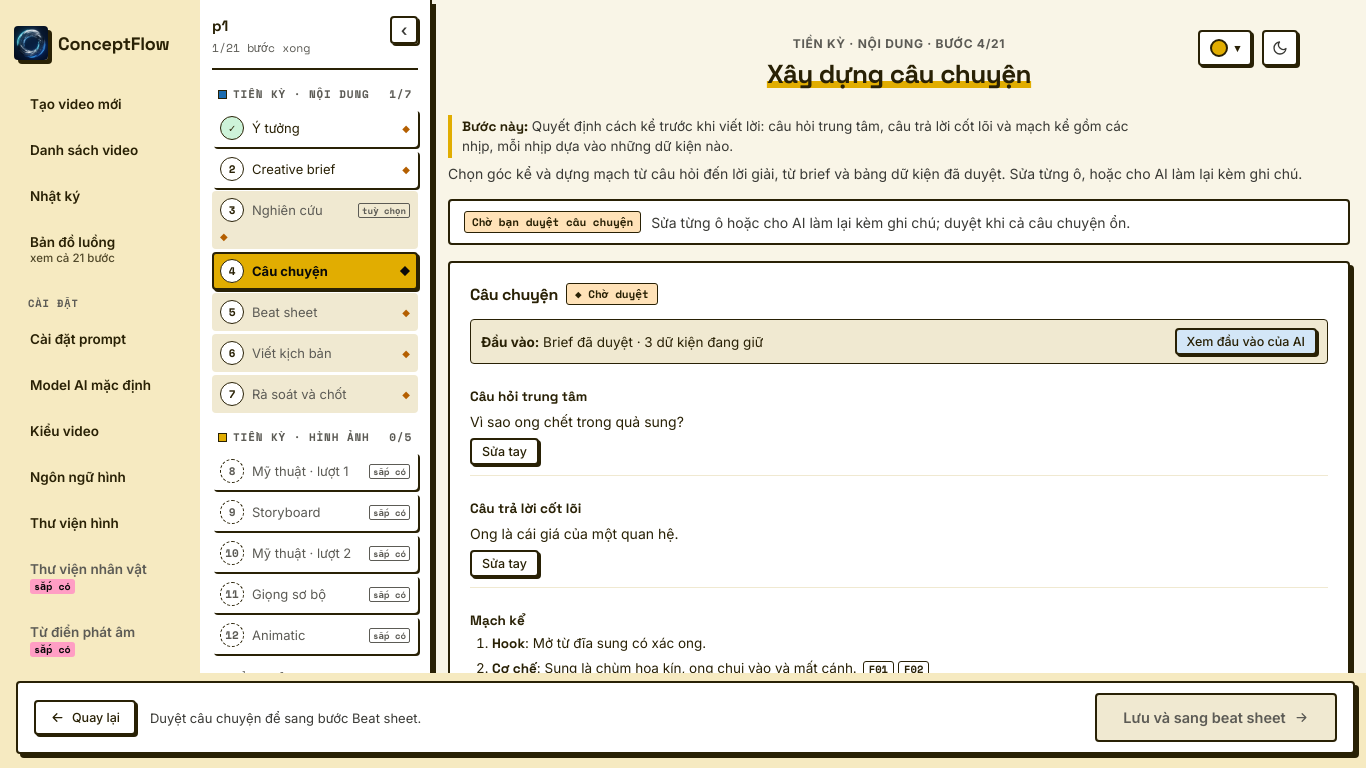
Test case: StoryStepPage › edits the core answer by hand in a dialog and saves only its text
This screenshot has width=1366, height=768.
Click the button with test id "story-edit-core_answer". click: [504, 564]
box: [470,550,539,577]
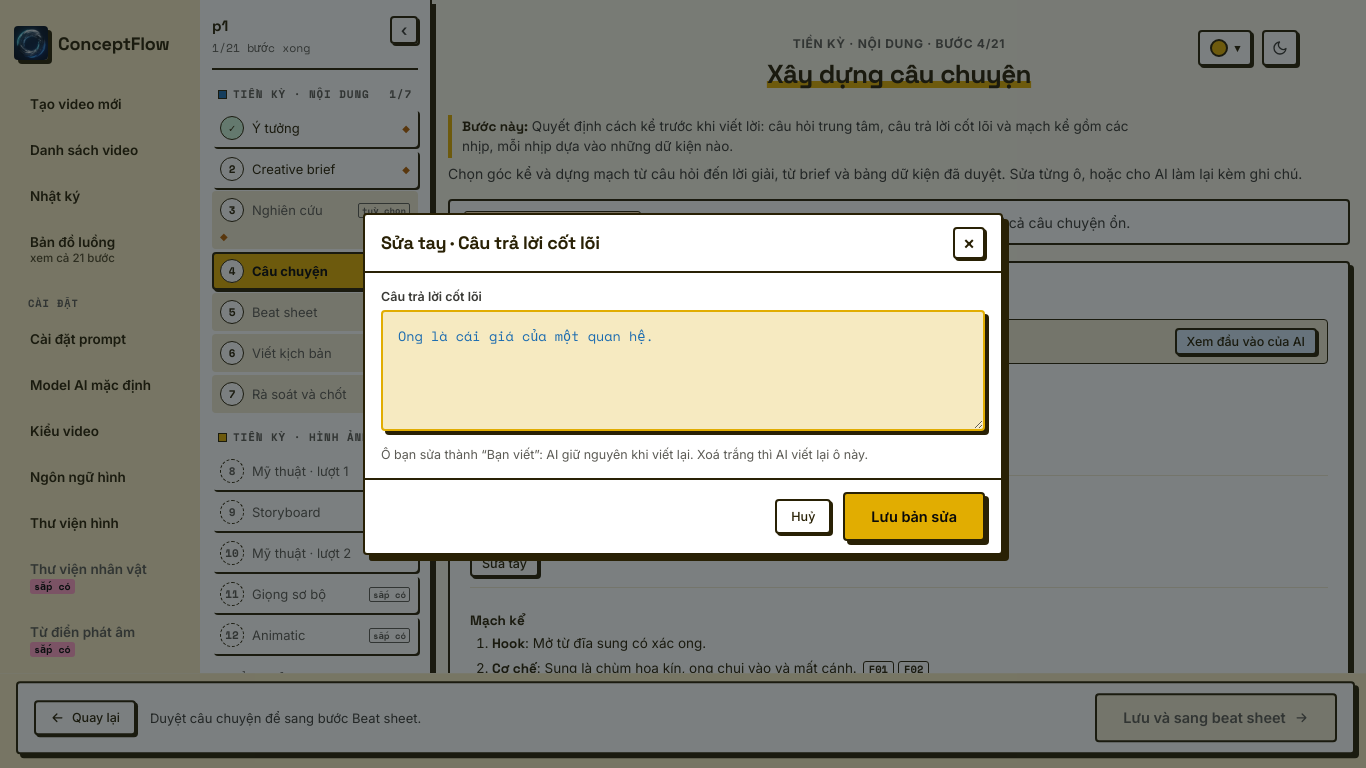
Check: the text box with test id "story-edit-answer-dialog-field" holds "Ong là cái giá của một quan hệ."
Replace the text in the text box with test id "story-edit-answer-dialog-field" with "Đáp án mới". click: [683, 370]
box: [381,310,985,431]
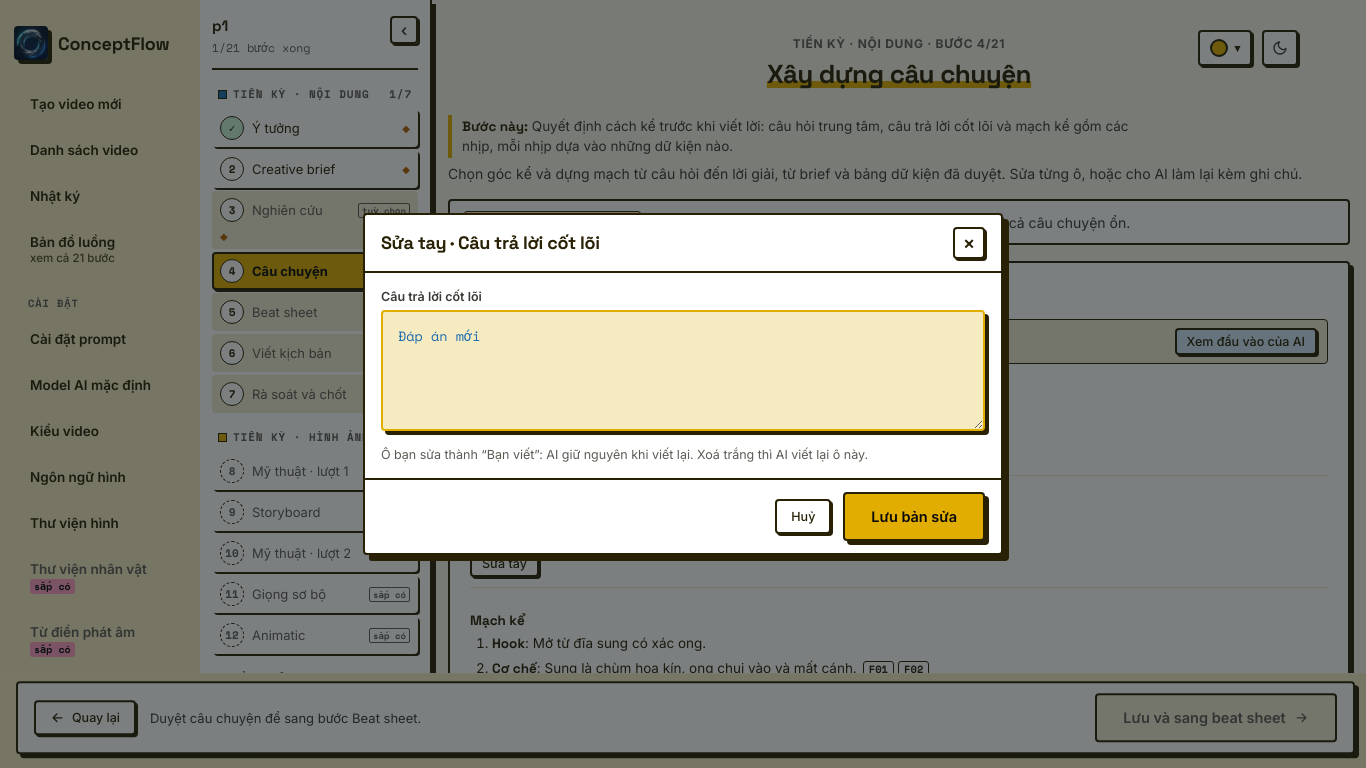
Click the button with test id "story-edit-answer-dialog-save". click: [914, 517]
box: [843,492,985,541]
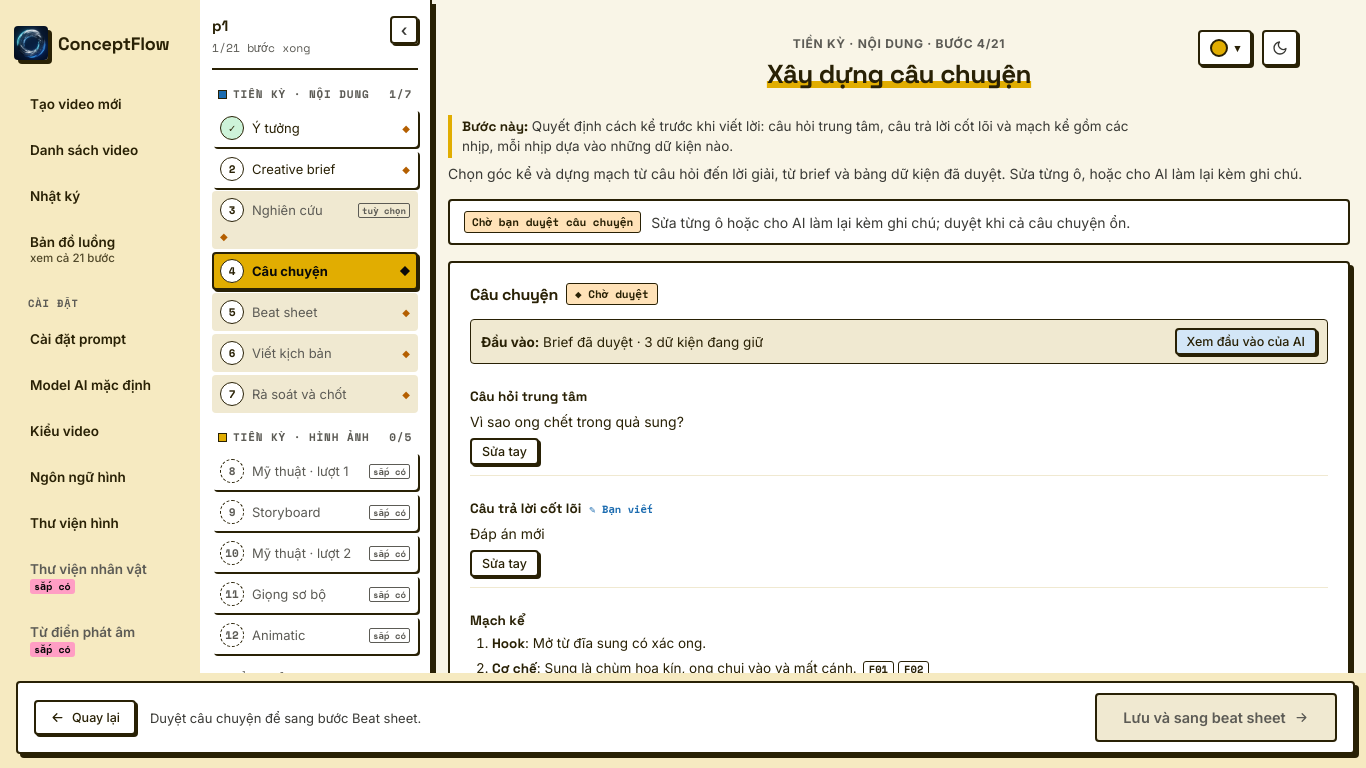
Check: the text "✎ Bạn viết" is shown, box [589,501,653,517]
